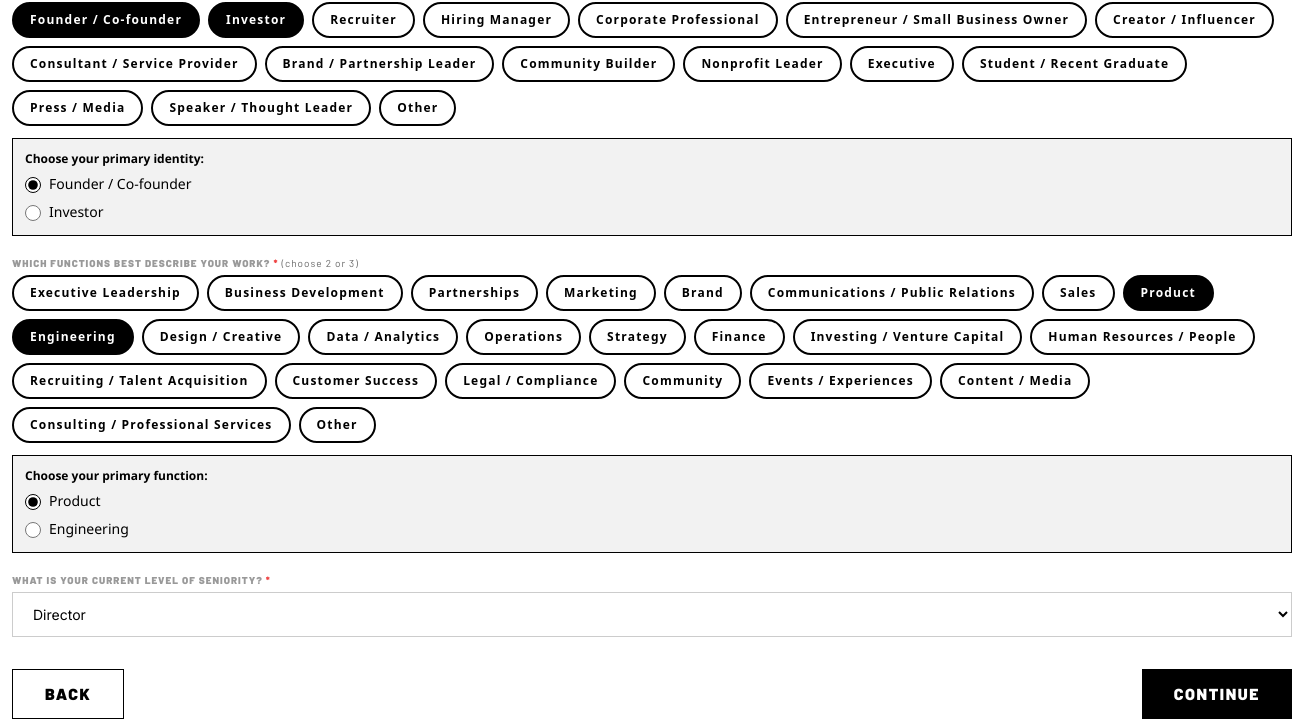
Test case: wizard blocks Next when a now-required multi-select is empty › Page 1 — no profile photo
(page scrolled)
Click the button "Continue".
click(1217, 694)  # box [1142,669,1292,718]
(page scrolled)
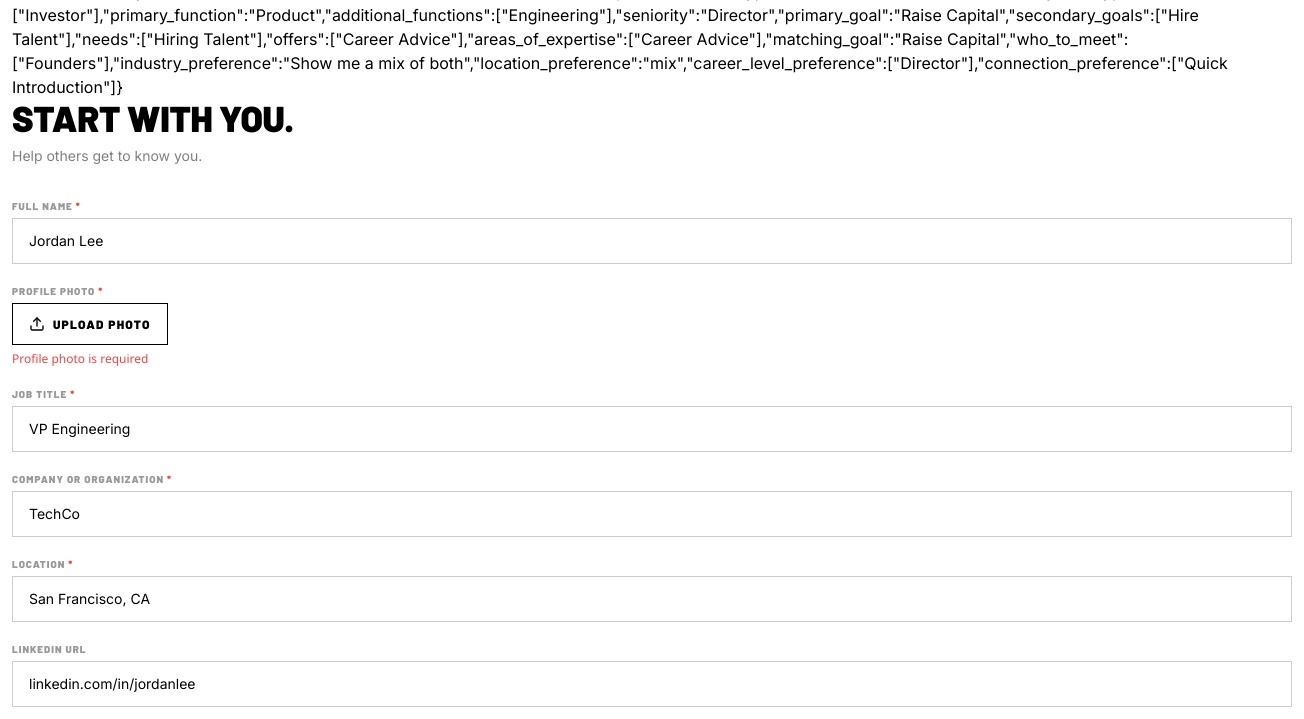
Expected: the text "Profile photo is required" is shown, [12,350,148,367]
